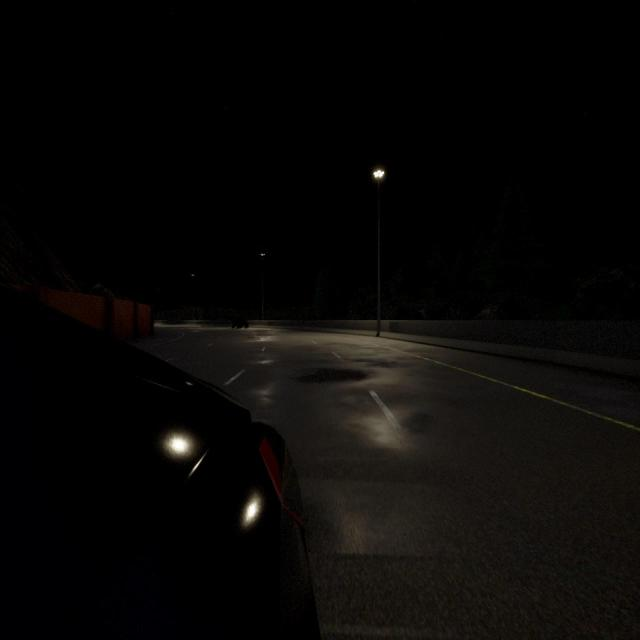Vehicle: (0, 288, 319, 640), (231, 314, 249, 330)
